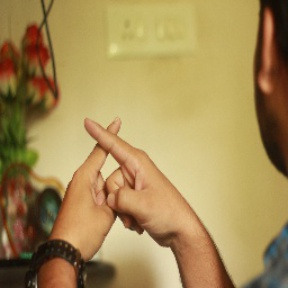X: (57, 106, 161, 200)
